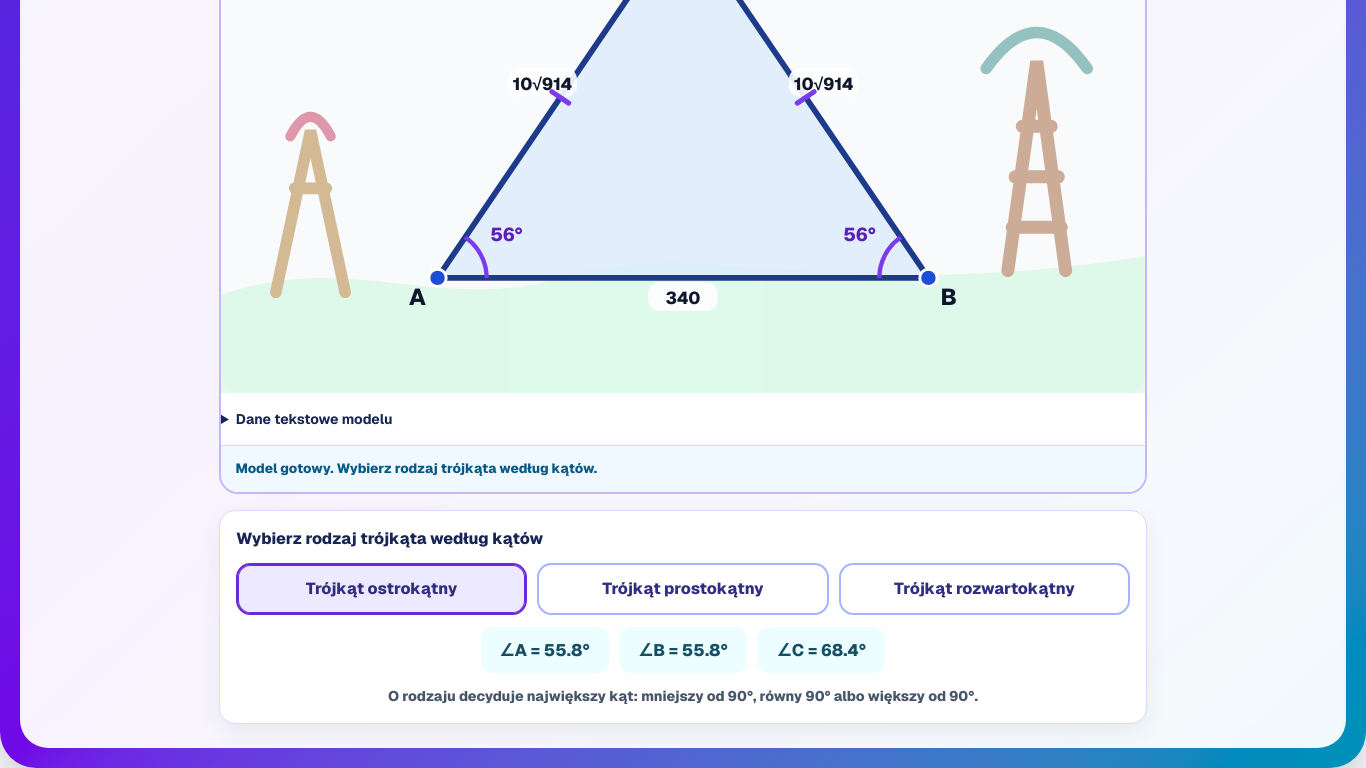
Scenario: WP-S4-06 — klasyfikacja trójkątów › opisuje rodzaje według kątów analogicznie do podziału według boków
This screenshot has width=1366, height=768.
(page scrolled)
Click the button "Trójkąt ostrokątny": (382, 589) [236,563,527,615]
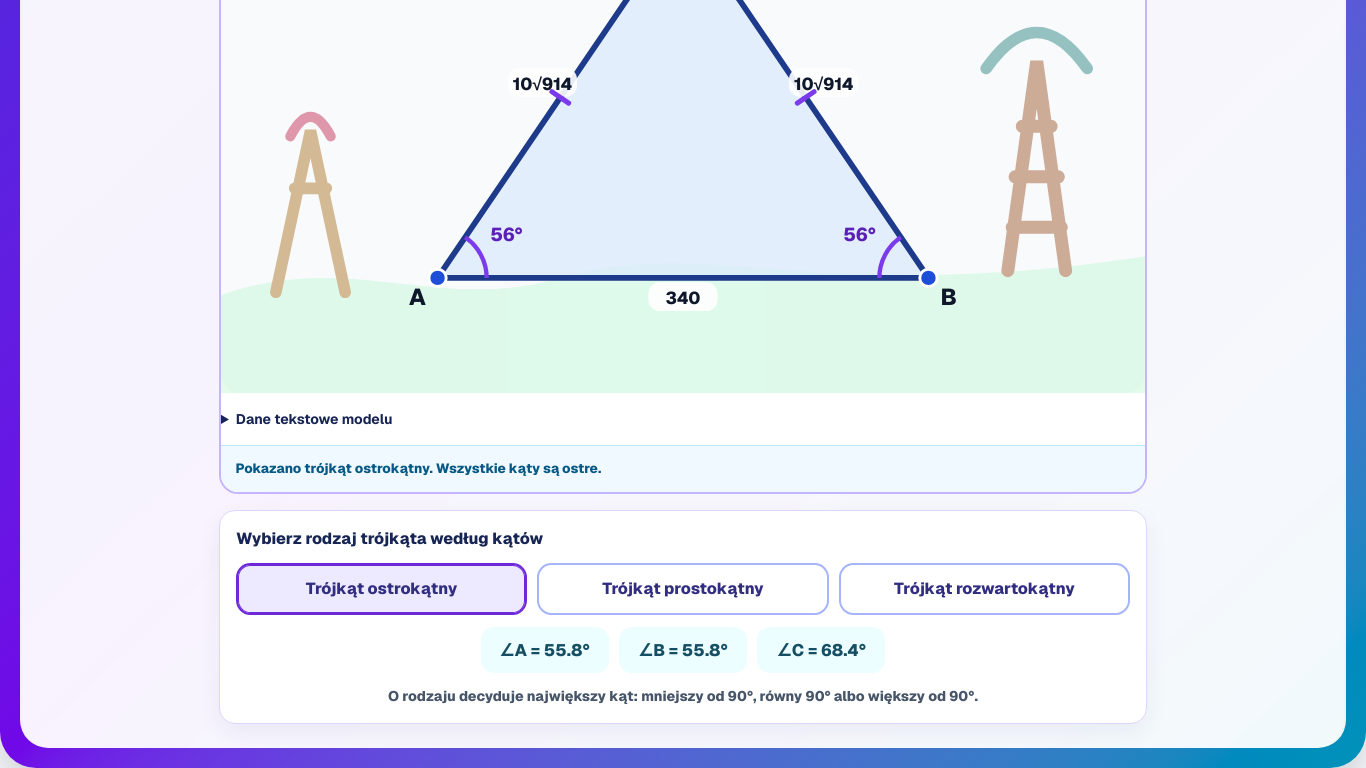
Expected: the message shows "Wszystkie kąty są ostre.", [235,459,601,477]
Click the button "Trójkąt prostokątny": (683, 589) [538,563,829,615]
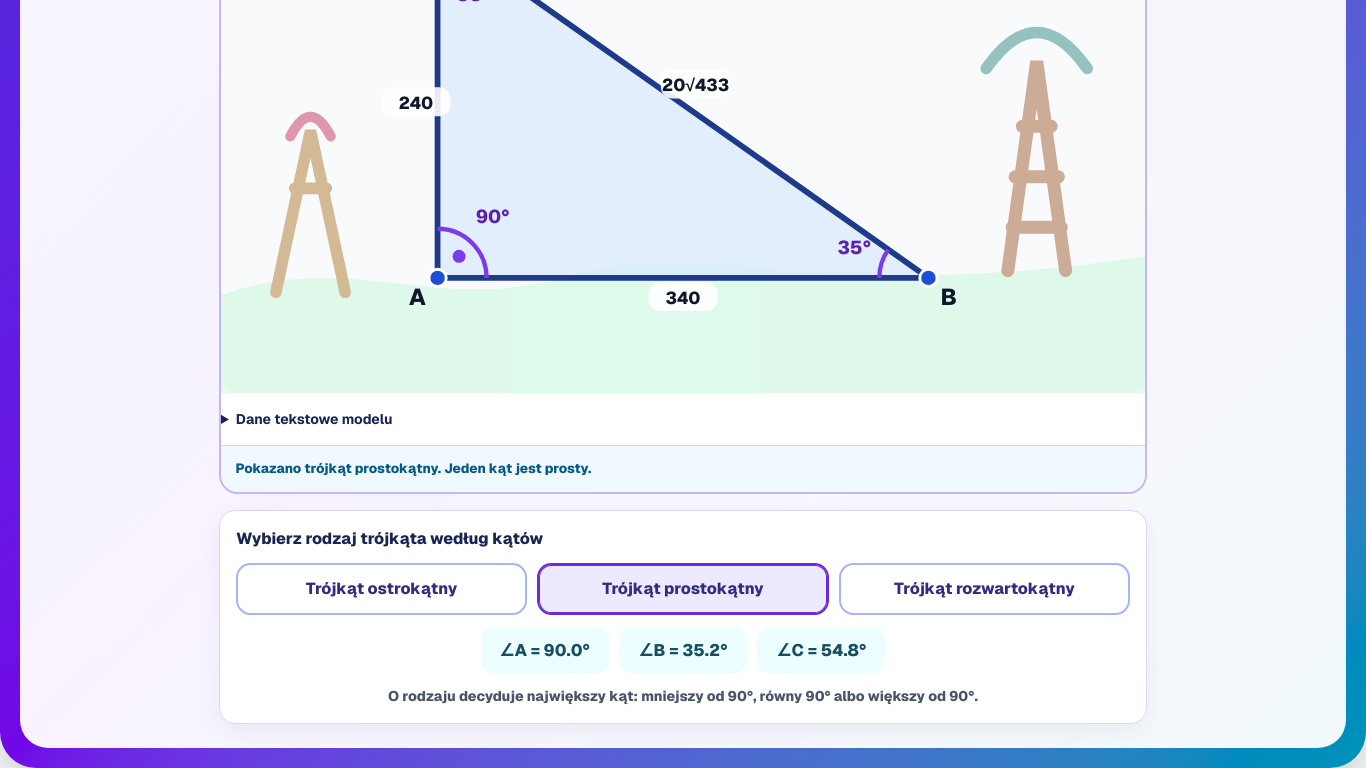
Expected: the message shows "Jeden kąt jest prosty.", [235,459,591,477]
Click the button "Trójkąt rozwartokątny": (984, 589) [839,563,1130,615]
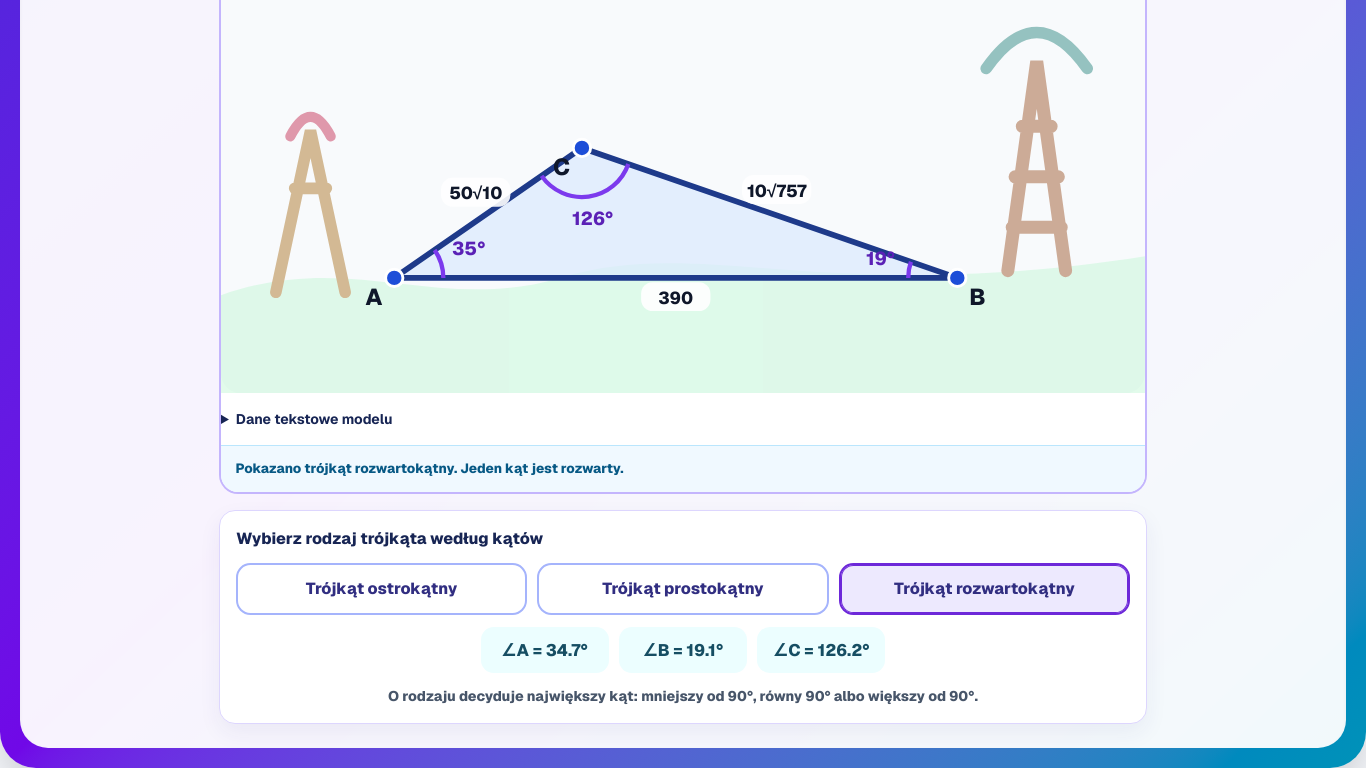
Expected: the message does not show "Porównaj miary kątów z 90°", [221,445,1145,492]
Expected: the message shows "Jeden kąt jest rozwarty.", [235,459,624,477]
